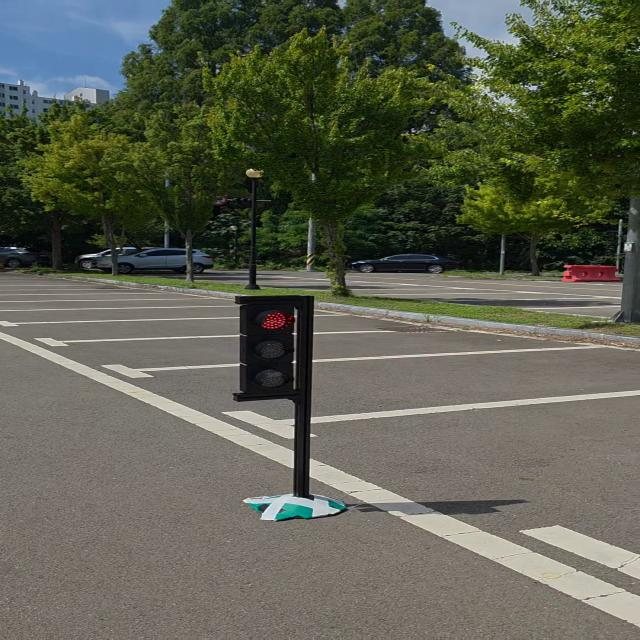red: (240, 297, 301, 403)
